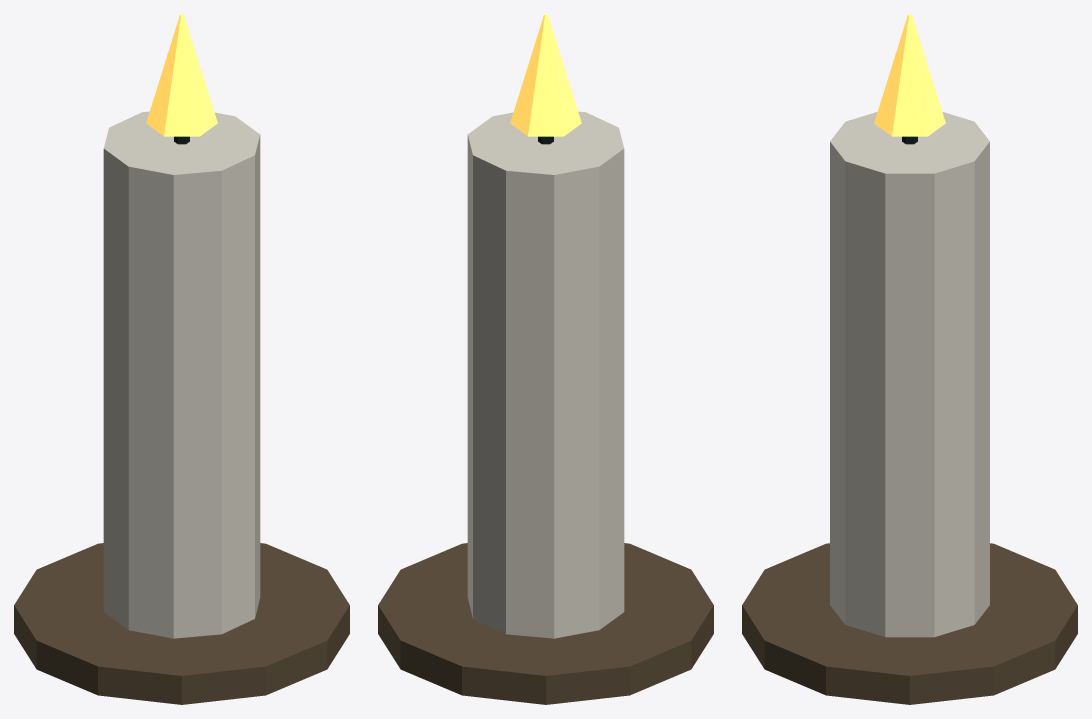
The model's file is blender_firelight_1_lit.glb.
3 views of the same model, side by side, from view 1: azimuth 30°, elevation 25°; view 2: azimuth 150°, elevation 25°; view 3: azimuth 270°, elevation 25° (orthographic).
Visible parts, largest first — view 1: blender_firelight_1_lit; view 2: blender_firelight_1_lit; view 3: blender_firelight_1_lit.
Boxes of the visible parts, bbox=[...] form: blender_firelight_1_lit: bbox=[14, 14, 349, 704]; blender_firelight_1_lit: bbox=[378, 14, 713, 704]; blender_firelight_1_lit: bbox=[742, 14, 1077, 704].
Bounding box in the file's own units: 0.084 × 0.171 × 0.084.
2 materials, 2 textured.
